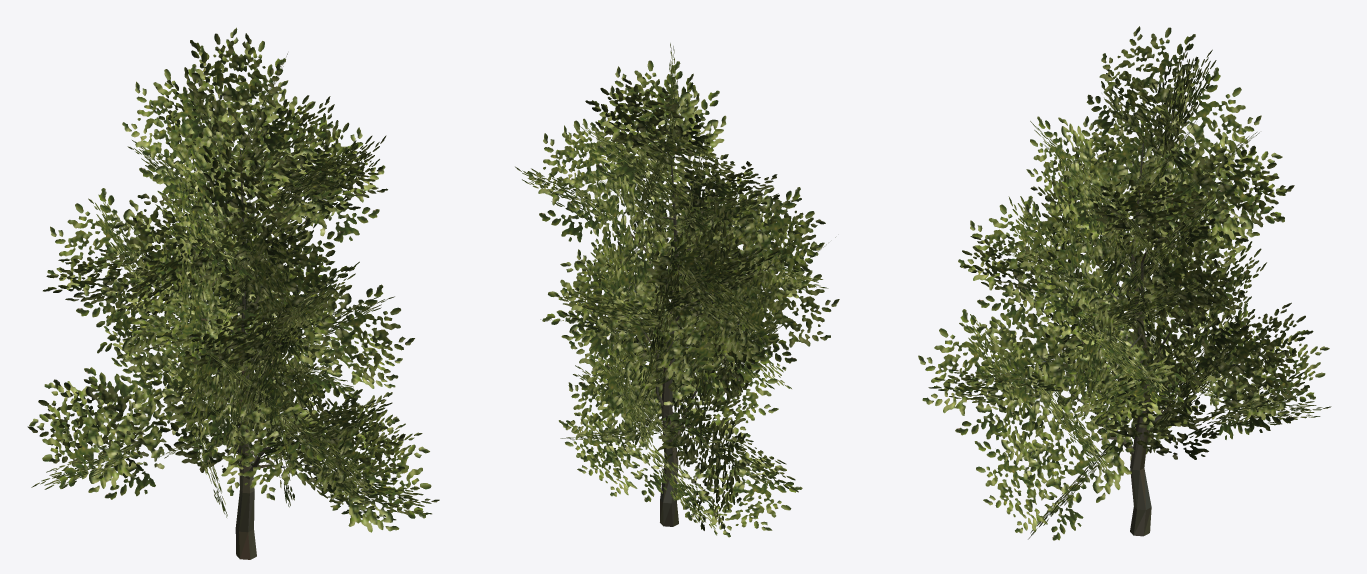
File: laubbaum_11.glb
The picture shows the model from 3 angles, left to right: view 1: azimuth 30°, elevation 25°; view 2: azimuth 150°, elevation 25°; view 3: azimuth 270°, elevation 25°; orthographic projection. The views are drawn at different scales.
Parts seen in each view (by area): view 1: laub, rinde; view 2: laub, rinde; view 3: laub, rinde.
Boxes of the visible parts, x1,y1,x2,y2 form: laub: [27, 27, 439, 532]; rinde: [185, 145, 287, 559]; laub: [515, 43, 839, 537]; rinde: [625, 152, 718, 526]; laub: [918, 26, 1331, 540]; rinde: [1069, 135, 1181, 536].
Bounding box in the file's own units: 6.47 × 9 × 7.36.
2 materials, 1 textured.
